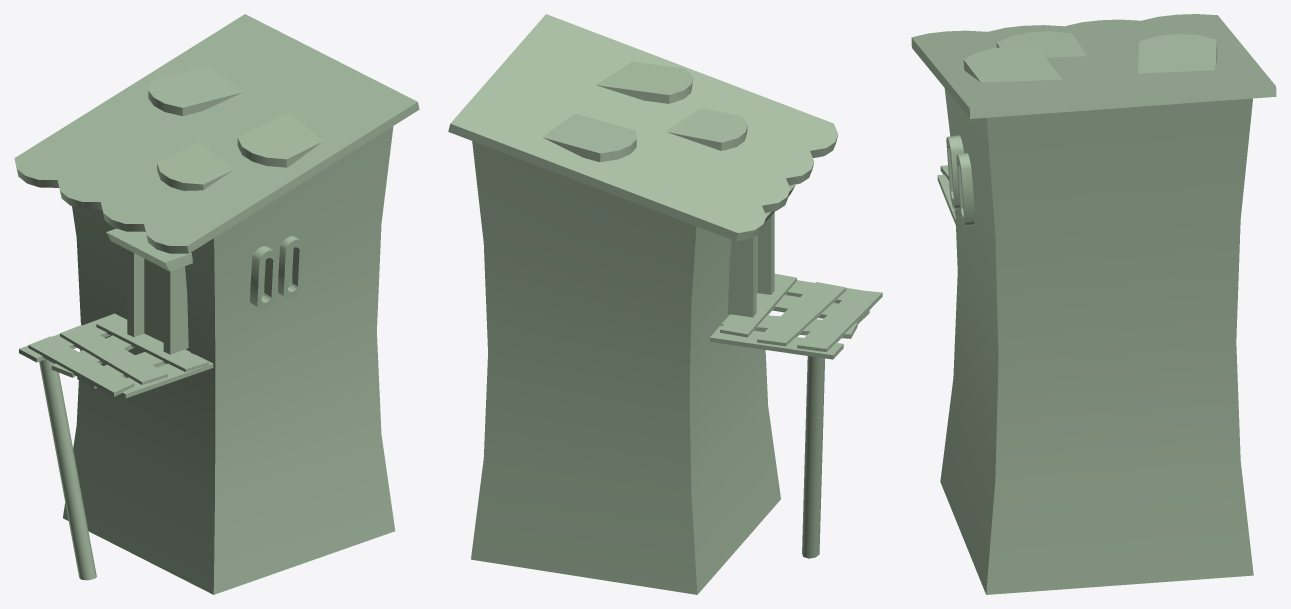
File: MESH_SquaredHouse01.fbx
The picture shows the model from 3 angles, left to right: view 1: azimuth 30°, elevation 25°; view 2: azimuth 150°, elevation 25°; view 3: azimuth 270°, elevation 25°; orthographic projection. The views are drawn at different scales.
Visible parts, largest first — view 1: MESH_SquaredHouse01; view 2: MESH_SquaredHouse01; view 3: MESH_SquaredHouse01.
Part boxes in pixels (left/top/right/bottom): MESH_SquaredHouse01: left=14, top=14, right=419, bottom=594; MESH_SquaredHouse01: left=448, top=14, right=882, bottom=594; MESH_SquaredHouse01: left=911, top=14, right=1276, bottom=594.
Size of the model in its own units: 6.68 by 5.38 by 8.06.
